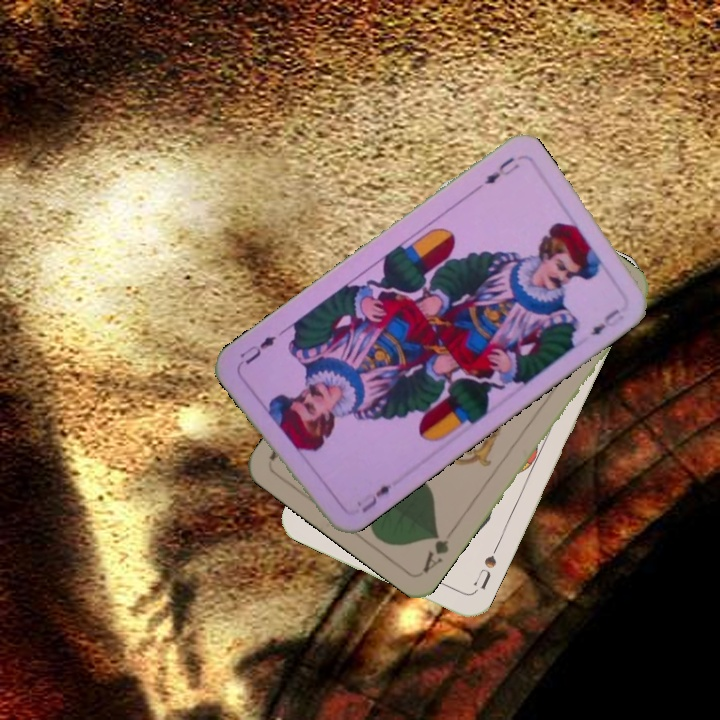EU: (470, 153, 522, 195), (357, 480, 395, 516)
GA: (418, 524, 458, 576)
SU: (469, 551, 499, 593)
